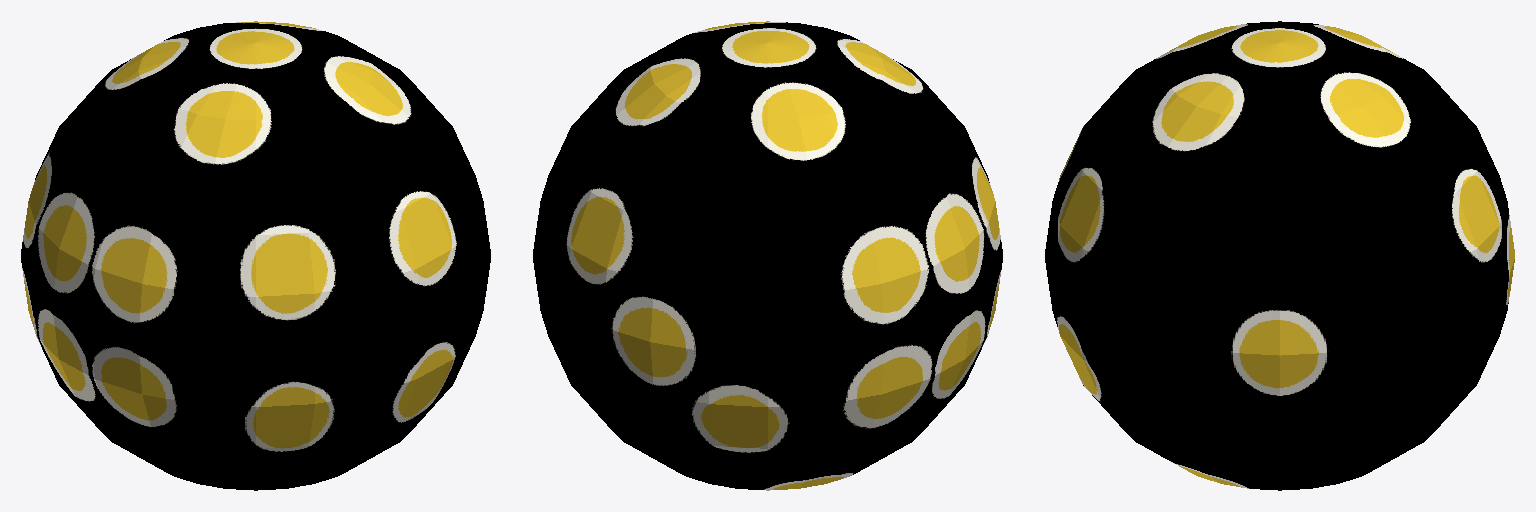
3 views of the same model, side by side, from view 1: azimuth 30°, elevation 25°; view 2: azimuth 150°, elevation 25°; view 3: azimuth 270°, elevation 25° (orthographic).
Parts seen in each view (by area): view 1: Sphere_None; view 2: Sphere_None; view 3: Sphere_None.
Part boxes in pixels (x1,y1,x2,y2): Sphere_None: (21,21,490,490); Sphere_None: (533,21,1002,490); Sphere_None: (1045,21,1514,490).
Size of the model in its own units: 2 by 2 by 2.
Materials: 1 (1 with a texture image).